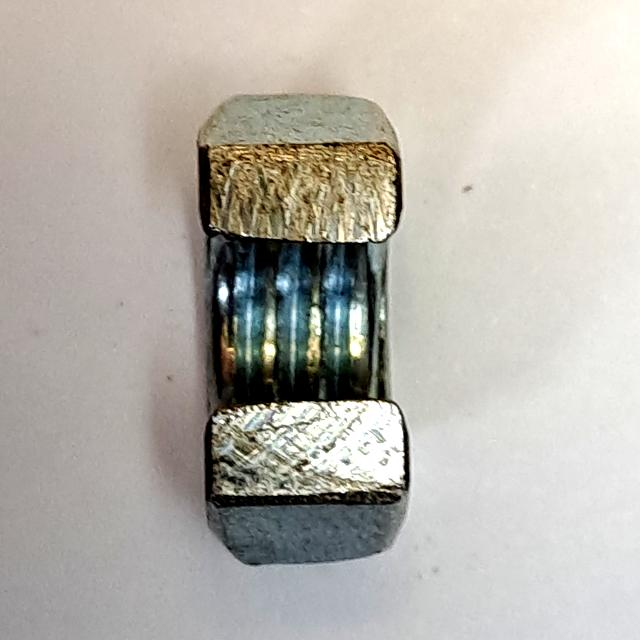Side-Fracture: (179, 75, 433, 583)
